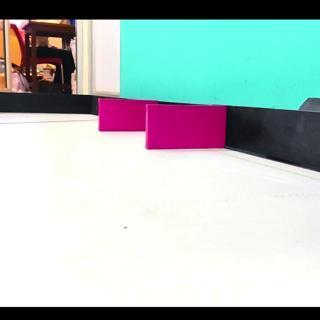xparking: (148, 106, 224, 148), (100, 101, 145, 131)
